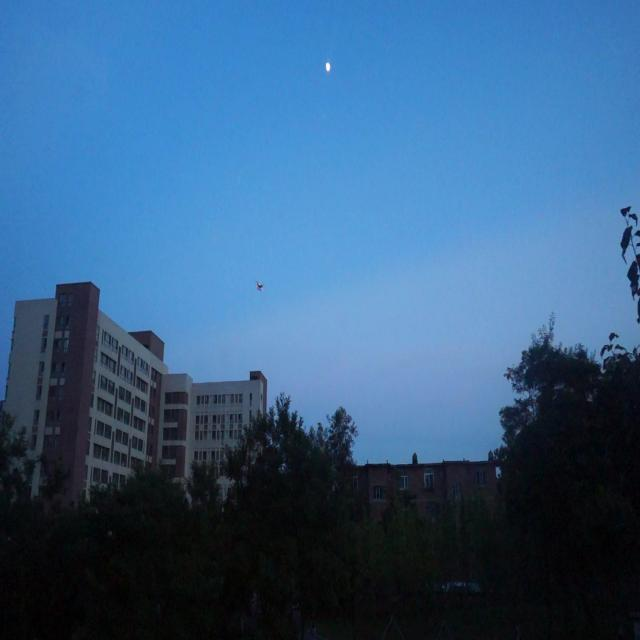UAV: (256, 280, 265, 292)
